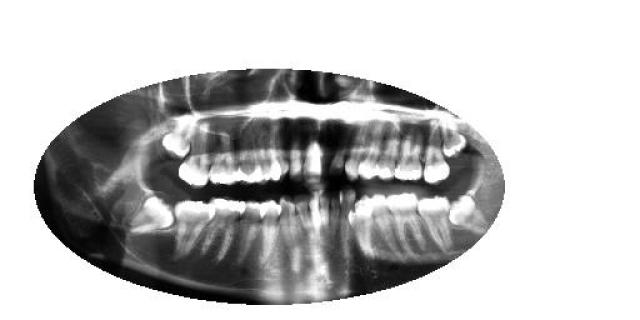Fillings: (202, 198, 242, 262), (395, 126, 424, 182), (209, 132, 239, 186), (376, 122, 402, 182), (238, 129, 262, 185)
Restorations: (129, 195, 176, 237), (447, 194, 488, 234)
